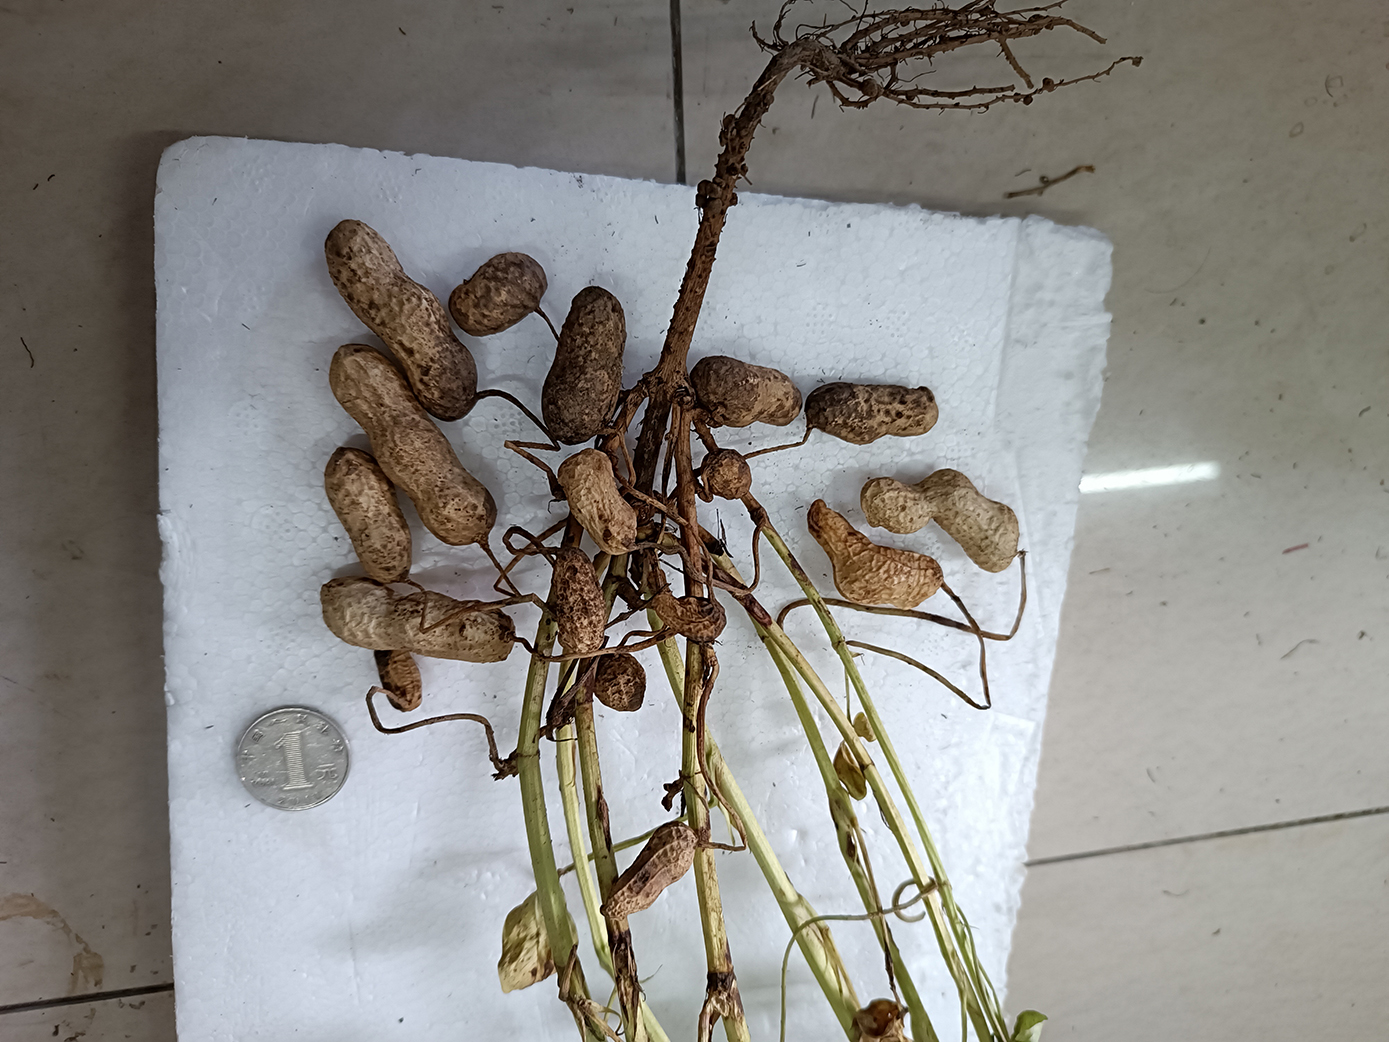h: (332, 341, 497, 546), (327, 220, 479, 421), (319, 575, 514, 663), (861, 470, 1019, 575), (805, 497, 944, 607), (323, 445, 412, 584), (597, 821, 701, 922), (553, 450, 638, 556), (803, 382, 941, 445), (688, 356, 802, 429), (549, 549, 607, 657), (649, 593, 727, 645), (593, 651, 647, 713), (373, 650, 423, 713), (701, 448, 754, 501)
l: (541, 283, 628, 444), (450, 253, 549, 337)
